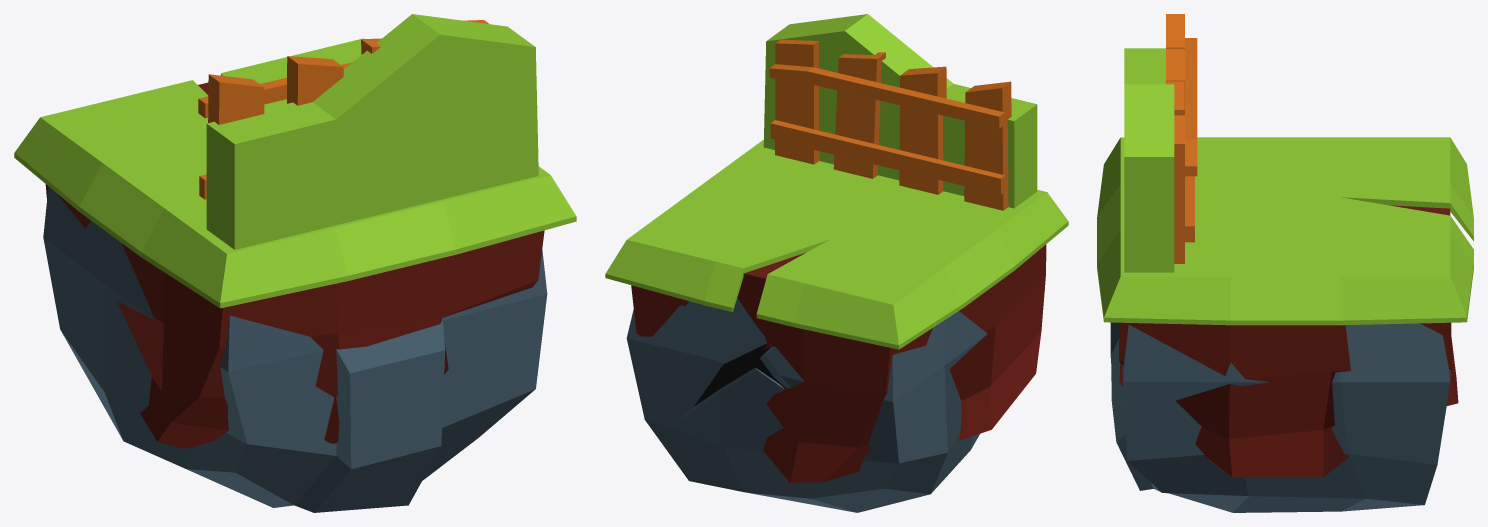
The model's file is level_assets_001.fbx.
The picture shows the model from 3 angles, left to right: view 1: azimuth 30°, elevation 25°; view 2: azimuth 150°, elevation 25°; view 3: azimuth 270°, elevation 25°; orthographic projection. The views are drawn at different scales.
Visible parts, largest first — view 1: Cube.Stone, CubeTop.Hedge, CubeTop.Grass, Cube.Dirt, CubeTop.Fence; view 2: CubeTop.Grass, Cube.Stone, Cube.Dirt, CubeTop.Fence, CubeTop.Hedge; view 3: CubeTop.Grass, Cube.Stone, Cube.Dirt, CubeTop.Hedge, CubeTop.Fence.
Part boxes in pixels (x1,y1,x2,y2): Cube.Stone: [43, 186, 547, 512]; CubeTop.Hedge: [206, 14, 538, 249]; CubeTop.Grass: [14, 38, 576, 308]; Cube.Dirt: [45, 82, 544, 448]; CubeTop.Fence: [198, 20, 488, 199]; CubeTop.Grass: [605, 139, 1068, 349]; Cube.Stone: [626, 290, 1044, 512]; Cube.Dirt: [631, 244, 1046, 482]; CubeTop.Fence: [769, 39, 1011, 210]; CubeTop.Hedge: [763, 14, 1037, 208]; CubeTop.Grass: [1097, 137, 1473, 325]; Cube.Stone: [1110, 322, 1450, 512]; Cube.Dirt: [1119, 205, 1458, 477]; CubeTop.Hedge: [1124, 48, 1174, 272]; CubeTop.Fence: [1165, 14, 1197, 263].
Size of the model in its own units: 2.28 by 2.28 by 2.9.
